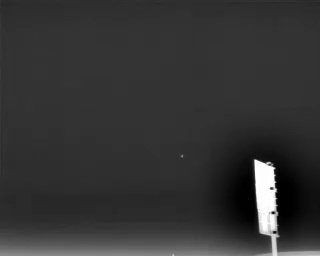BIRD: (178, 152, 186, 160)
